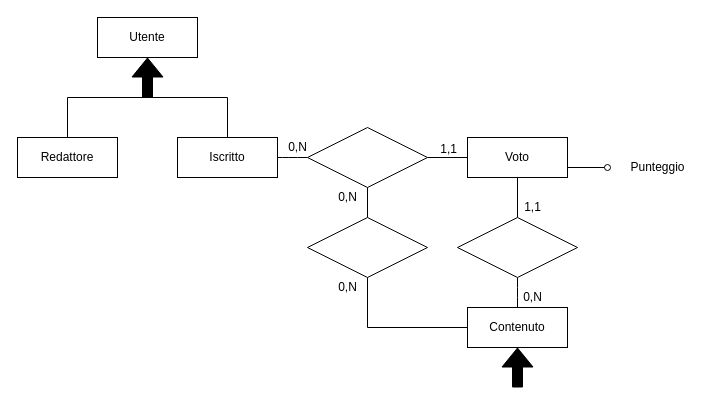
Some shapes in this 715 by 405 pixel diagram are drawn without their labels. Here are the shapes that lost their labels. From the top down, the centre of each, then its label:
(x=367, y=157): Assegna
(x=367, y=247): Preferisce
(x=517, y=247): Riferisce
